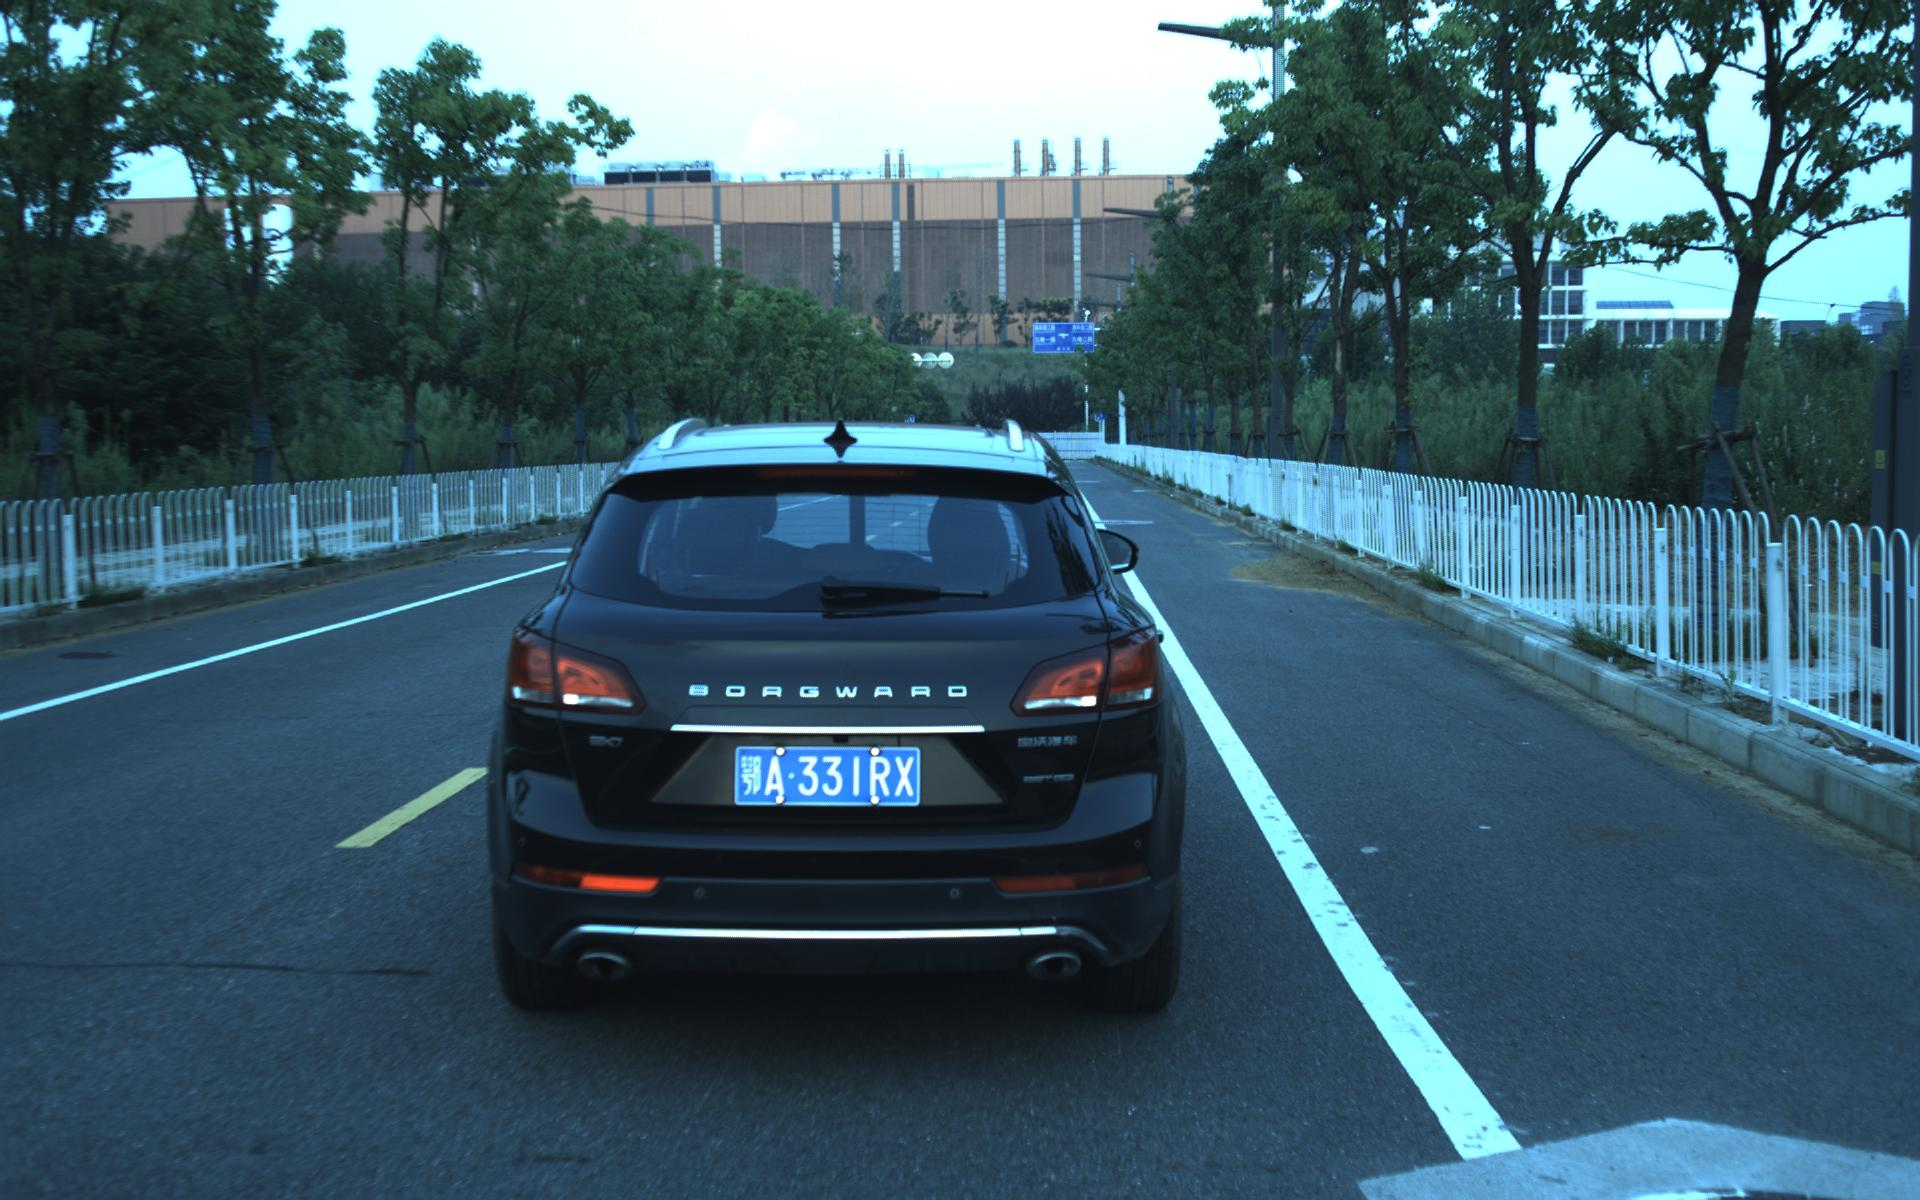Car: (489, 398, 1192, 1018)
